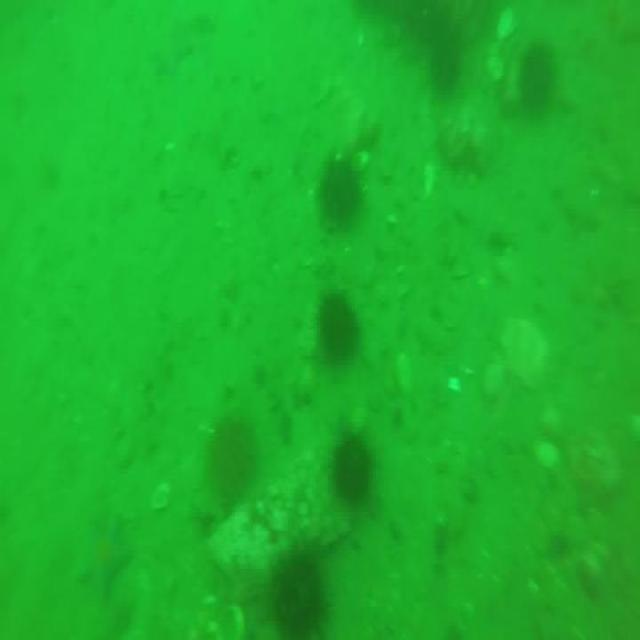echinus: (278, 534, 326, 640), (314, 153, 364, 223), (216, 410, 250, 510), (518, 38, 559, 115), (334, 427, 371, 504), (319, 299, 364, 357)
scallop: (497, 5, 519, 42), (538, 443, 562, 474), (150, 482, 172, 512), (485, 48, 504, 80), (446, 374, 462, 390)
starfish: (74, 517, 132, 594), (155, 27, 193, 73)
